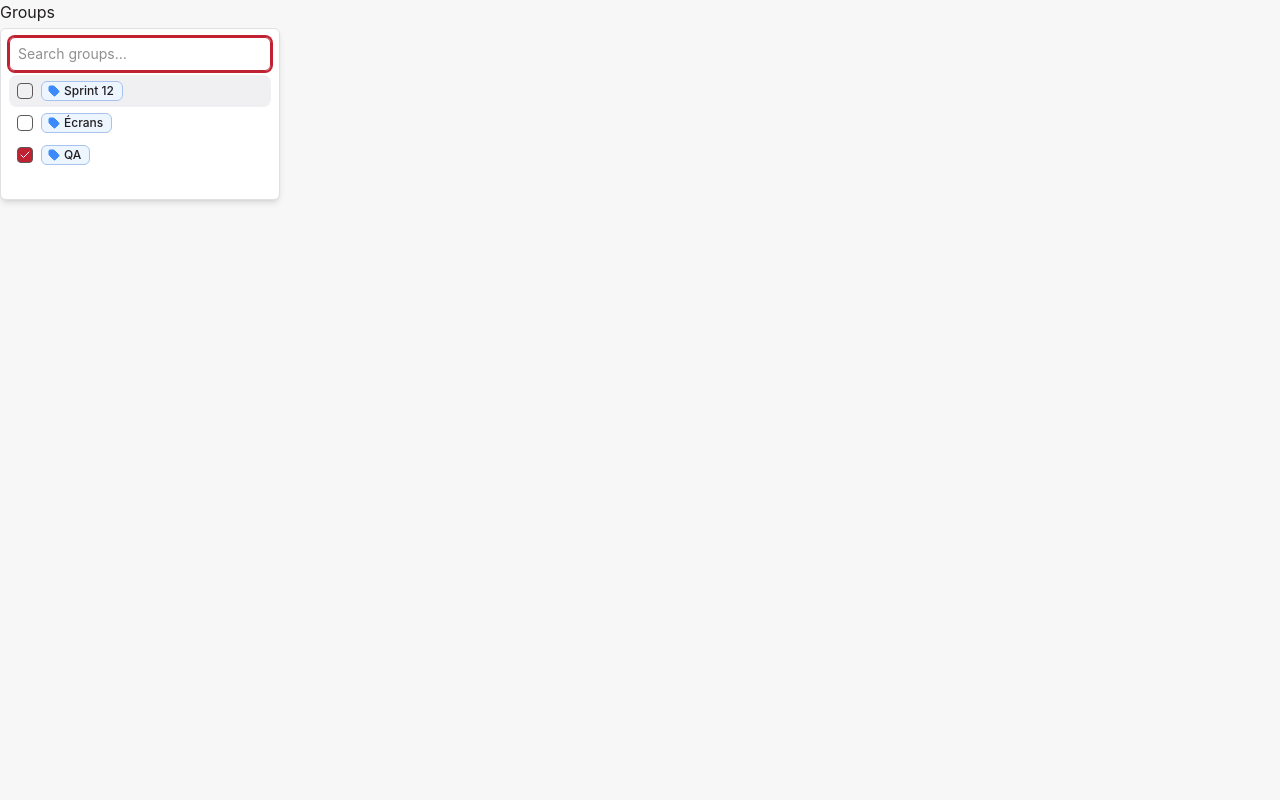
it: GroupPicker checkbox mode › shows an inline error on failure and leaves state unchanged
The width and height of the screenshot is (1280, 800).
Click the option "Sprint 12" at (82, 91), box [9,75,271,107]
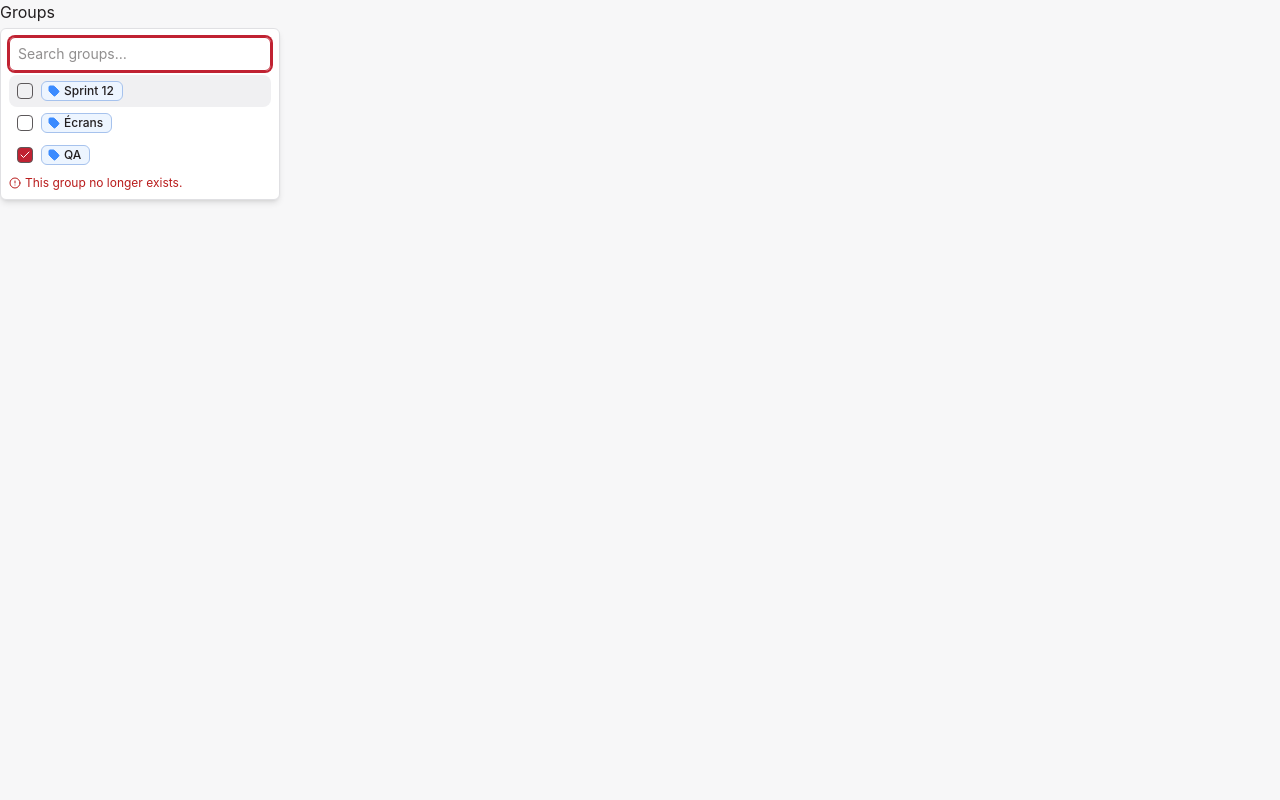
Check: the message reads "This group no longer exists.", box [25,175,182,190]
